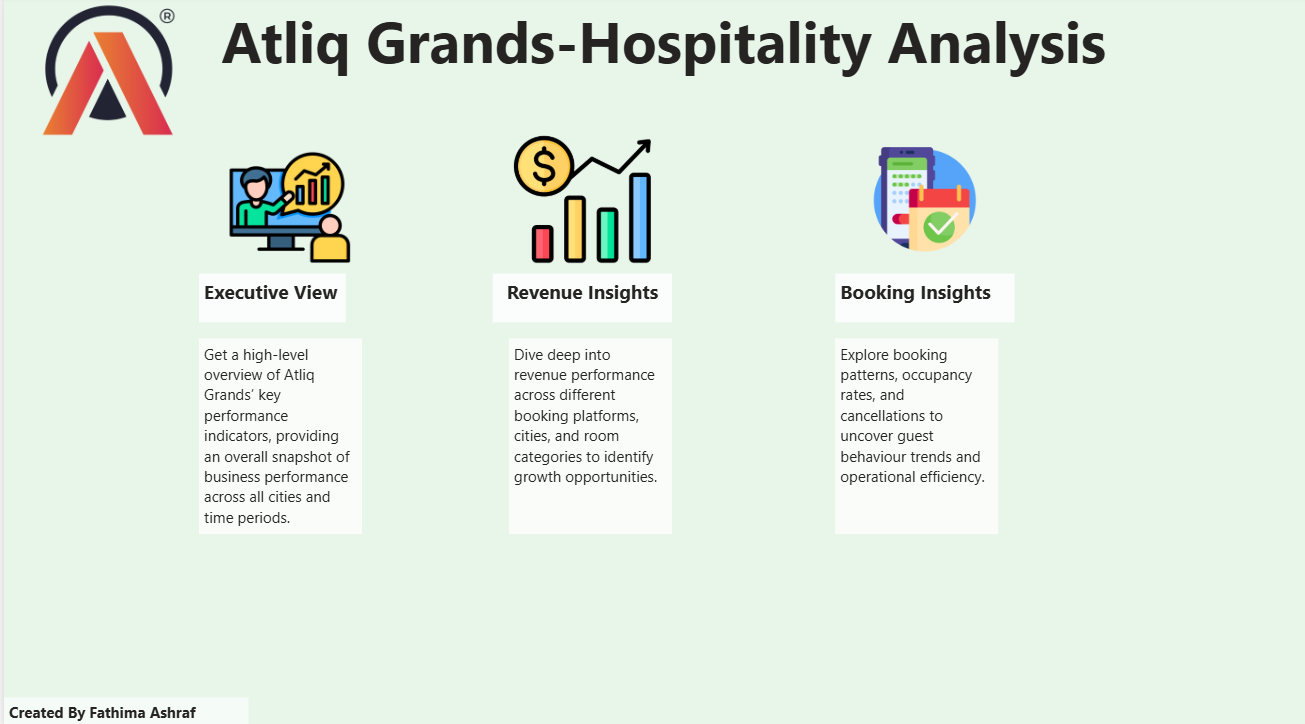

The dashboard page shown, as its layout file describes it:
{"tool":"powerbi","page":{"name":"Home ","canvas":[1280,720],"ordinal":0},"visuals":[{"type":"textbox","box":[208,0,1072,112],"z":0},{"type":"image","box":[32,0,144,144],"z":1000},{"type":"image","box":[208,144,144,128],"z":2000},{"type":"textbox","box":[192,272,144,48],"z":3000},{"type":"textbox","box":[192,336,160,192],"z":4000},{"type":"image","box":[496,128,144,144],"z":5000},{"type":"textbox","box":[480,272,176,48],"z":6000},{"type":"textbox","box":[496,336,160,192],"z":7000},{"type":"image","box":[832,144,144,112],"z":8000},{"type":"textbox","box":[816,272,176,48],"z":9000},{"type":"textbox","box":[816,336,160,192],"z":10000},{"type":"textbox","box":[0,688,240,32],"z":11000}]}

Visuals, with their boxes in screenshot pixels (x1, y1, x2, y2), scaled from the page's 1280x720 canvas onto the 1305x724 screenshot:
textbox: bbox=(212, 0, 1304, 113)
image: bbox=(33, 0, 179, 145)
image: bbox=(212, 145, 359, 274)
textbox: bbox=(196, 274, 343, 322)
textbox: bbox=(196, 338, 359, 531)
image: bbox=(506, 129, 652, 274)
textbox: bbox=(489, 274, 669, 322)
textbox: bbox=(506, 338, 669, 531)
image: bbox=(848, 145, 995, 257)
textbox: bbox=(832, 274, 1011, 322)
textbox: bbox=(832, 338, 995, 531)
textbox: bbox=(0, 692, 245, 723)
